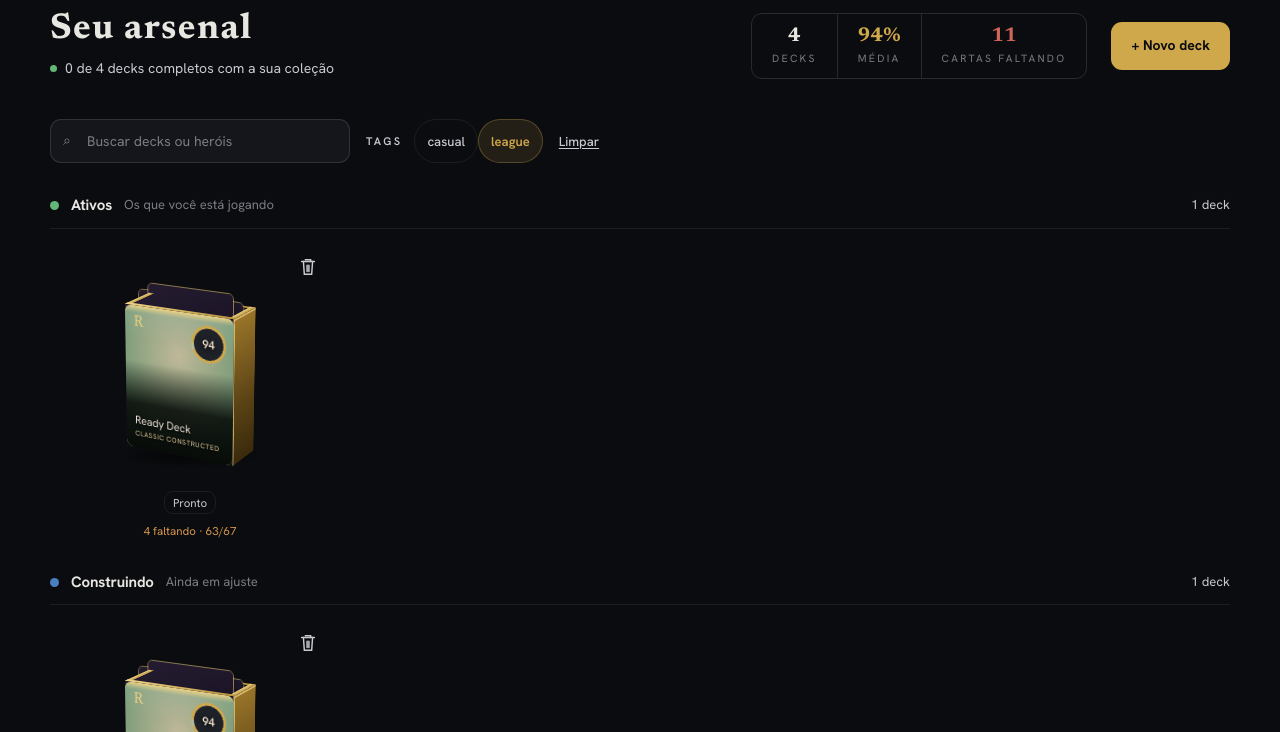
Home route › ANDs the search with the active tag filter
Expected: the element labelled "Ready Deck" is shown, [50,245,330,540]
Type "building" into the search field labelled "Buscar decks ou heróis" at (200, 142), box [50,120,350,164]
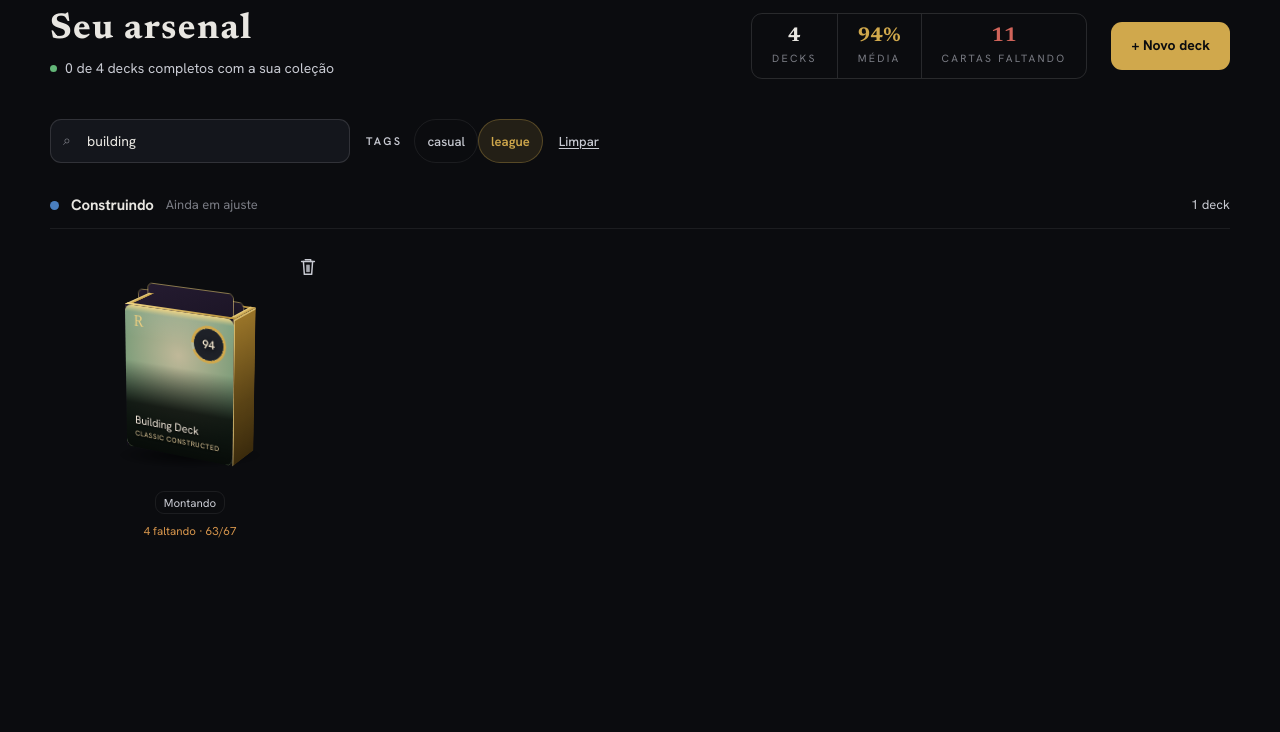
Expected: the element labelled "Building Deck" is shown, [50,245,330,540]
Expected: the link labelled "Ready Deck" is gone
